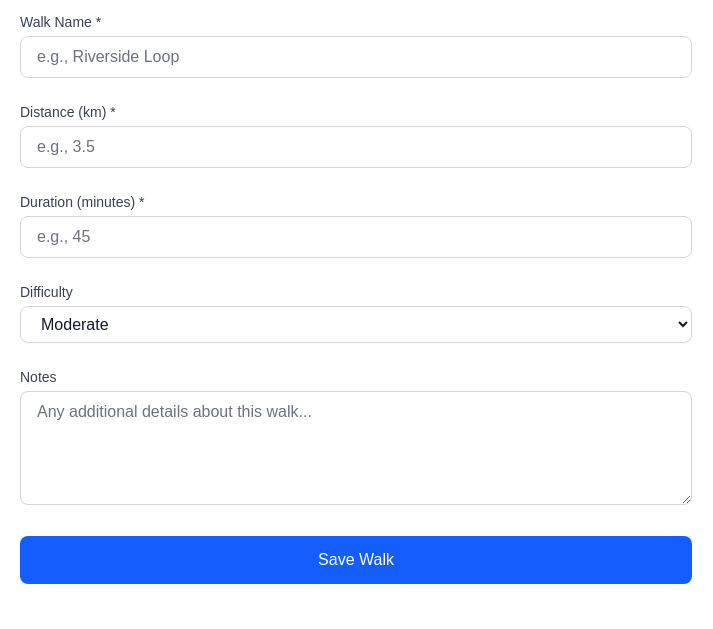
Test: AddWalkForm › Validation › shows error when duration is 0
The width and height of the screenshot is (713, 629).
Type "Test Walk" into the field labelled "Walk Name *".
click(356, 57); type("Test Walk")  # box [20,36,692,78]
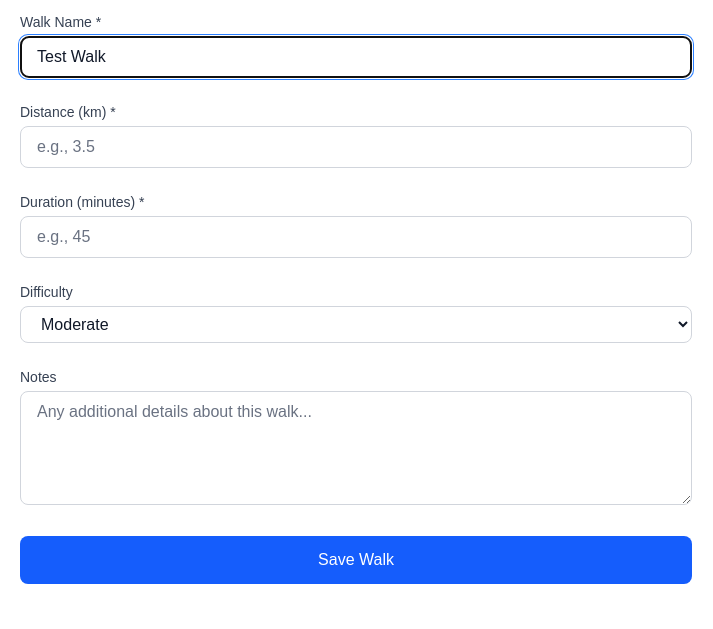
Type "5" into the number field labelled "Distance (km) *".
click(356, 147); type("5")  # box [20,126,692,168]
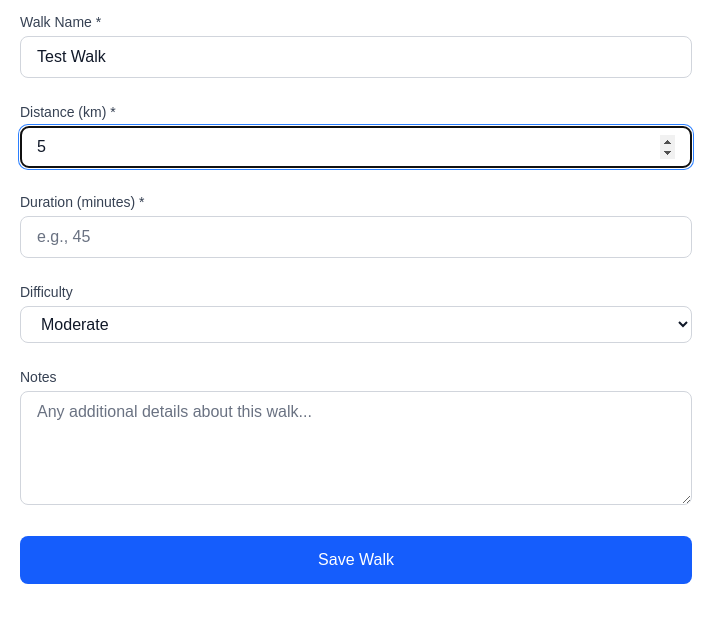
# Duration defaults to 0
Click the button "Save Walk".
click(356, 560)  # box [20,536,692,584]
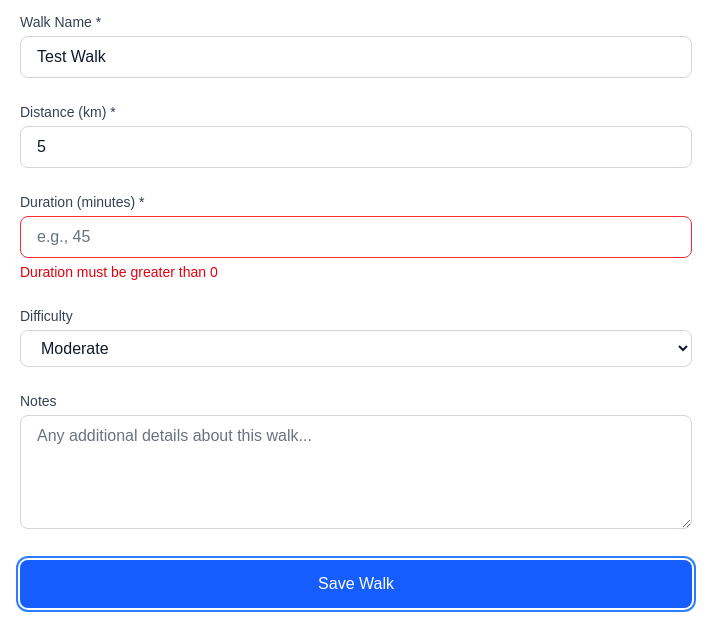
Expected: the text "Duration must be greater than 0" is shown, [20,264,218,280]
